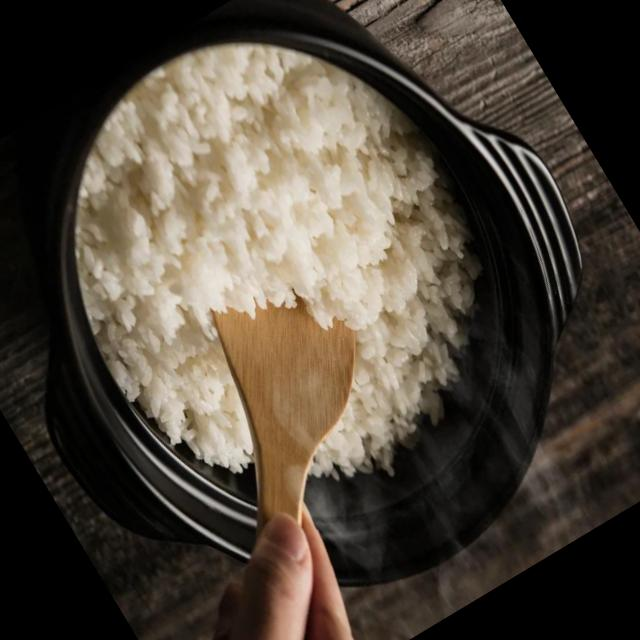rice: (78, 45, 483, 484)
